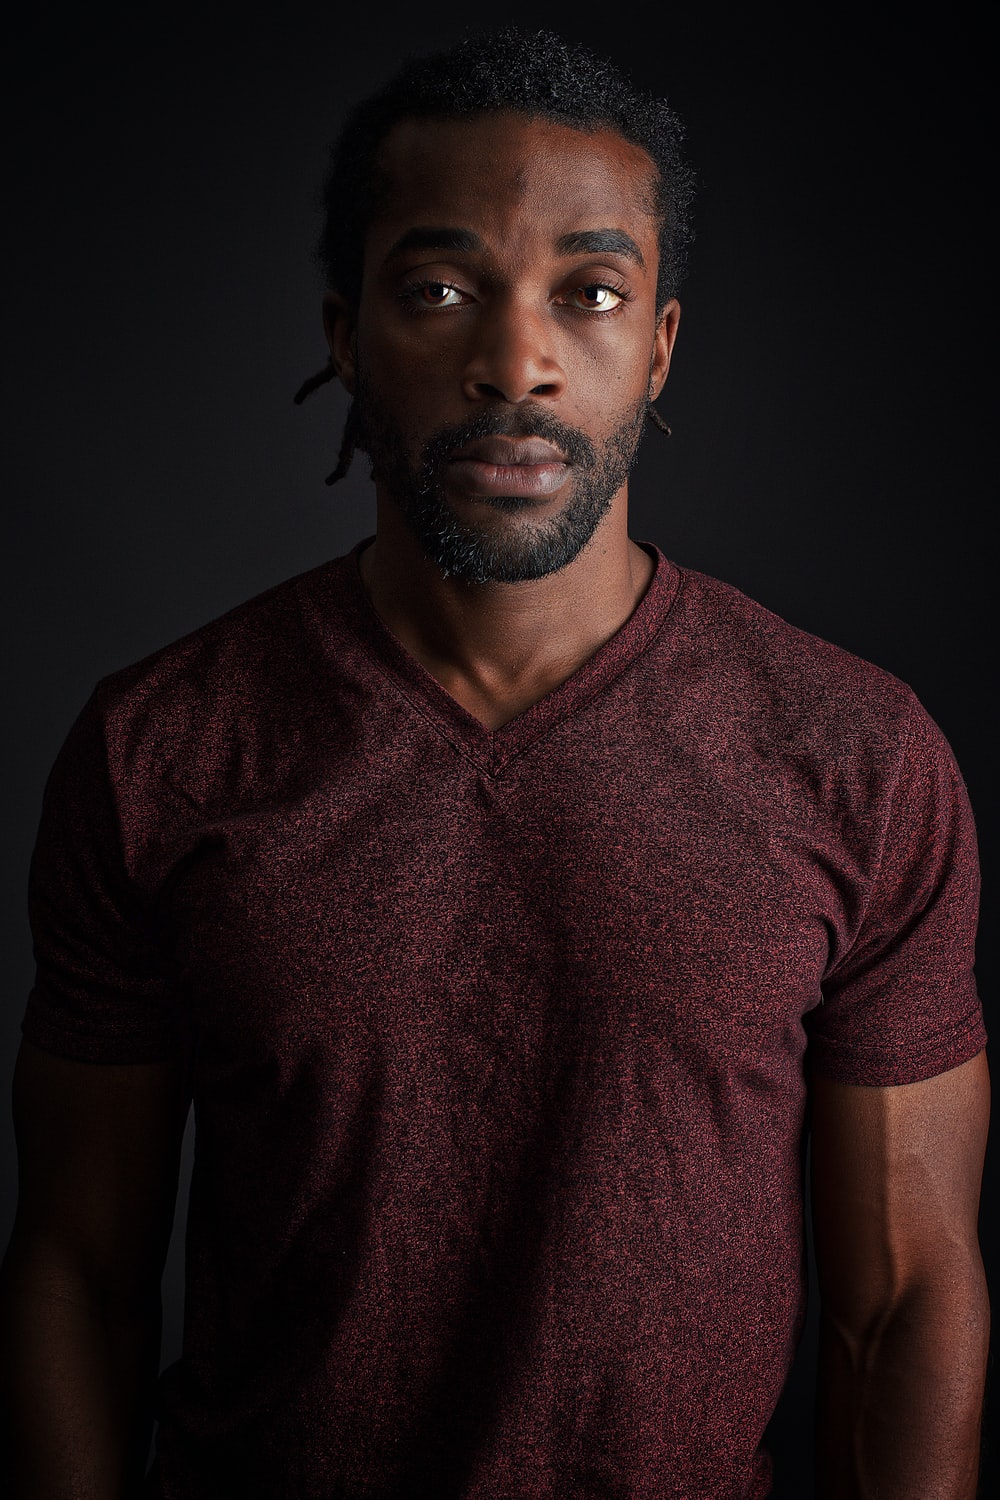bare: (358, 337, 651, 575)
